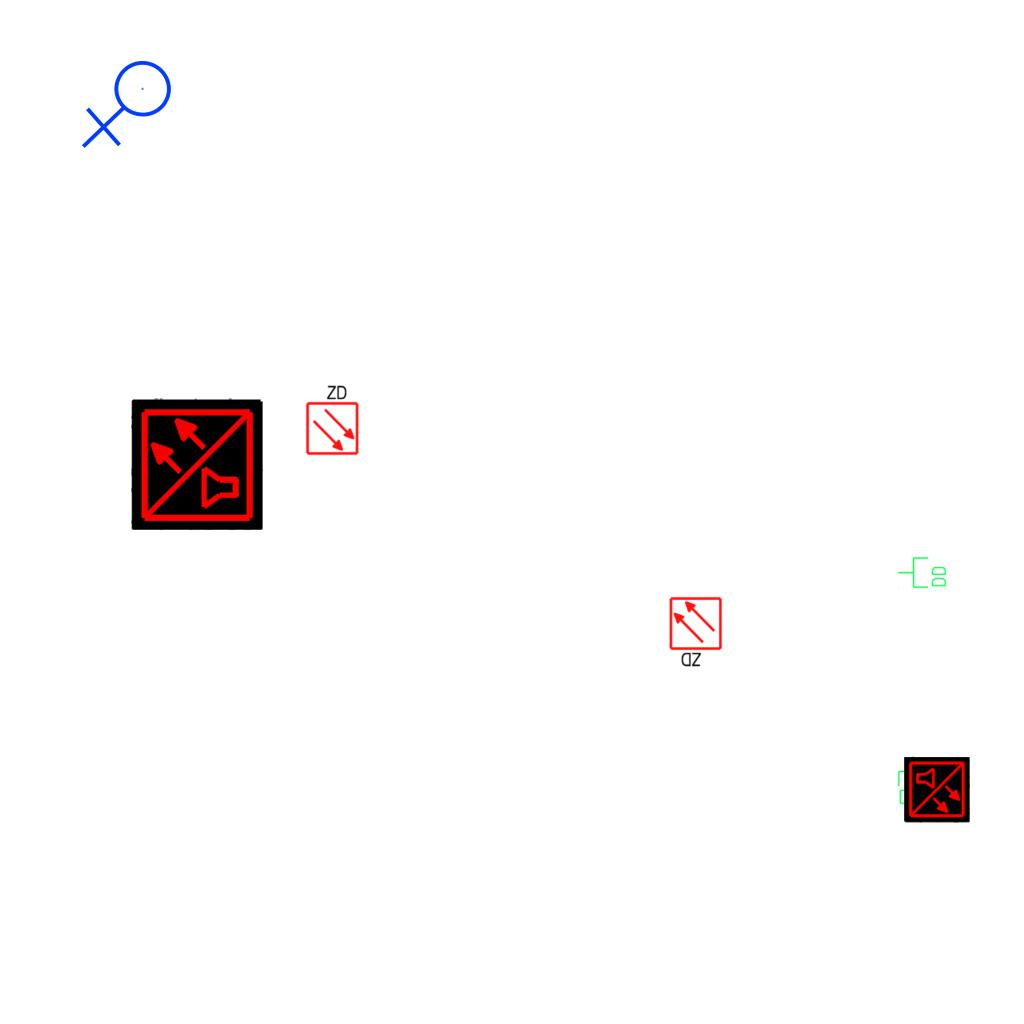Datenanschluss_zweifach: (896, 755, 930, 806), (897, 556, 948, 590)
Elektroanschluss_allgemein_230V_Geraeteanschlussdose_230V: (81, 59, 180, 153)
OKW_Multisensormelder_(Kombination_optischer_Rauch-Kahlenmonoxid_Waerme-Melder): (131, 398, 263, 530), (904, 757, 970, 823)
ZD_Melder_in_Zwischendecke_mit_Revisionsoeffnung_mind_40_x_40_cm: (668, 596, 725, 670), (303, 382, 360, 456)
